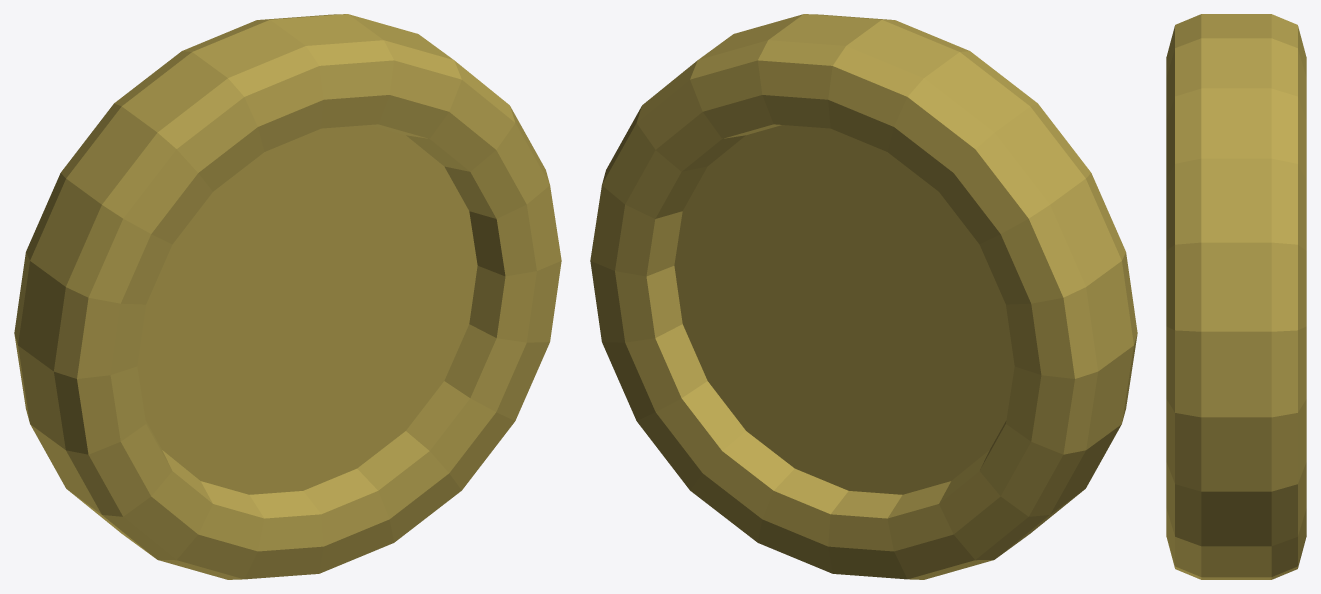
Rendered from coin.glb.
3 renders of one model, left to right at view 1: azimuth 30°, elevation 25°; view 2: azimuth 150°, elevation 25°; view 3: azimuth 270°, elevation 25°, orthographic. The views are drawn at different scales.
Parts seen in each view (by area): view 1: Coin_Cylinder.014; view 2: Coin_Cylinder.014; view 3: Coin_Cylinder.014.
Boxes of the visible parts, x1,y1,x2,y2 form: Coin_Cylinder.014: [14, 14, 561, 579]; Coin_Cylinder.014: [590, 14, 1137, 579]; Coin_Cylinder.014: [1166, 14, 1306, 579].
Size of the model in its own units: 0.7367 by 0.7376 by 0.1812.
